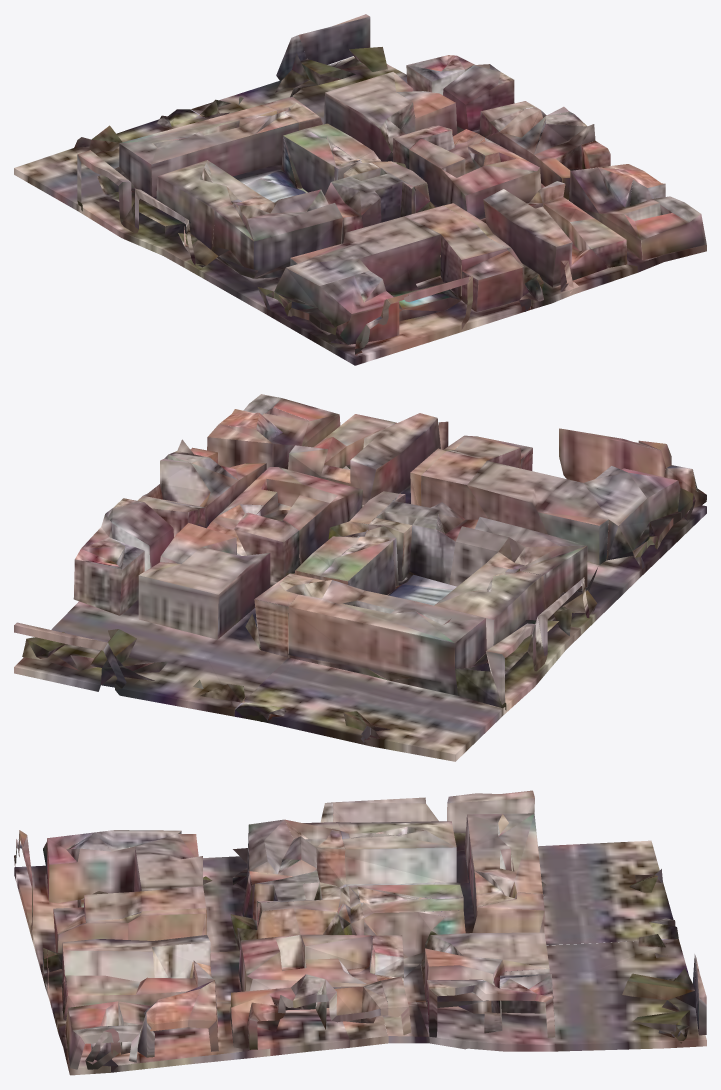
3 views of the same model, one above another, from view 1: azimuth 30°, elevation 25°; view 2: azimuth 150°, elevation 25°; view 3: azimuth 270°, elevation 25° (orthographic). The views are drawn at different scales.
Parts seen in each view (by area): view 1: Mesh_0; view 2: Mesh_0; view 3: Mesh_0.
Boxes of the visible parts, left/top/right/bottom form: Mesh_0: left=14, top=14, right=706, bottom=365; Mesh_0: left=14, top=394, right=706, bottom=761; Mesh_0: left=14, top=790, right=706, bottom=1075.
Bounding box in the file's own units: 266 × 43.19 × 330.
Materials: 2 (2 with a texture image).
